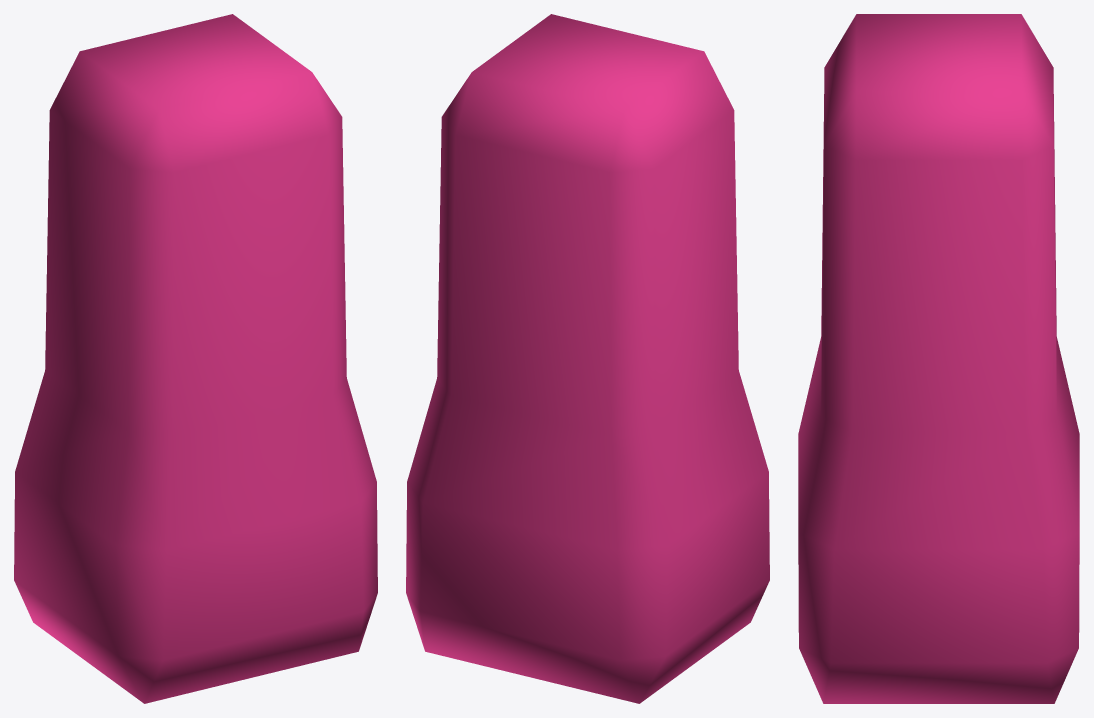
Rendered from sandalye_ayag_.fbx.
The picture shows the model from 3 angles, left to right: view 1: azimuth 30°, elevation 25°; view 2: azimuth 150°, elevation 25°; view 3: azimuth 270°, elevation 25°; orthographic projection. The views are drawn at different scales.
Parts seen in each view (by area): view 1: sandalye_ayağı_; view 2: sandalye_ayağı_; view 3: sandalye_ayağı_.
Boxes of the visible parts, box(x1,y1,x2,y2) form: sandalye_ayağı_: box(14, 14, 377, 703); sandalye_ayağı_: box(406, 14, 769, 703); sandalye_ayağı_: box(798, 14, 1079, 703).
Size of the model in its own units: 51.11 by 108 by 45.98.
Materials: 1 (1 with a texture image).
